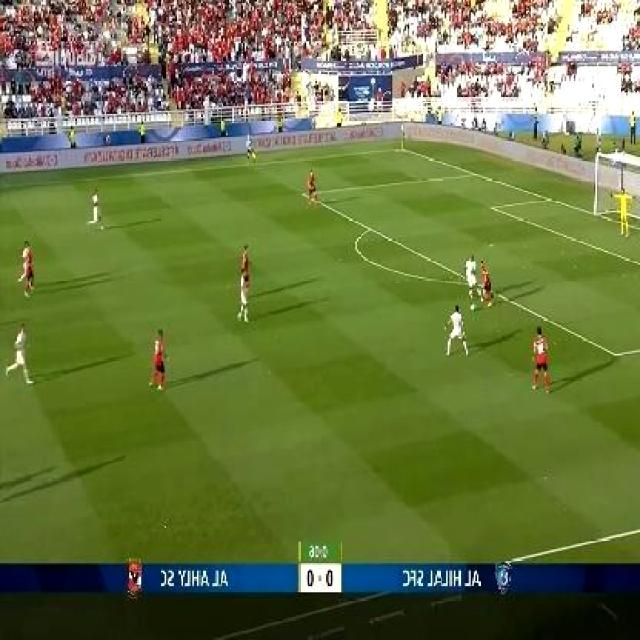bigarea_bottom_inner: (608, 340, 628, 368)
bigarea_top_inner: (298, 185, 312, 200)
bigarea_top_outter: (469, 166, 483, 180)
bottom_arc_area_intersection: (494, 286, 508, 303)
corner: (395, 141, 411, 154)
smallarea_top_inner: (489, 200, 502, 214)
smallarea_top_outter: (544, 189, 558, 205)
top_arc_area_intersection: (364, 218, 378, 236)
